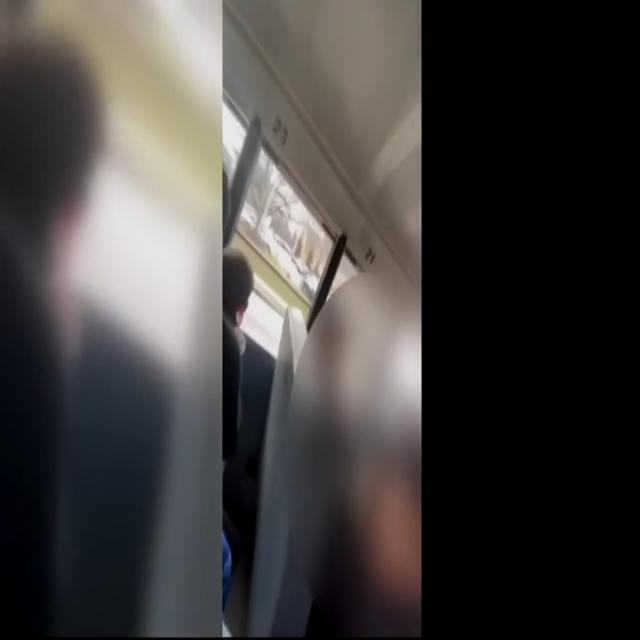non-fight: (220, 185, 266, 446)
